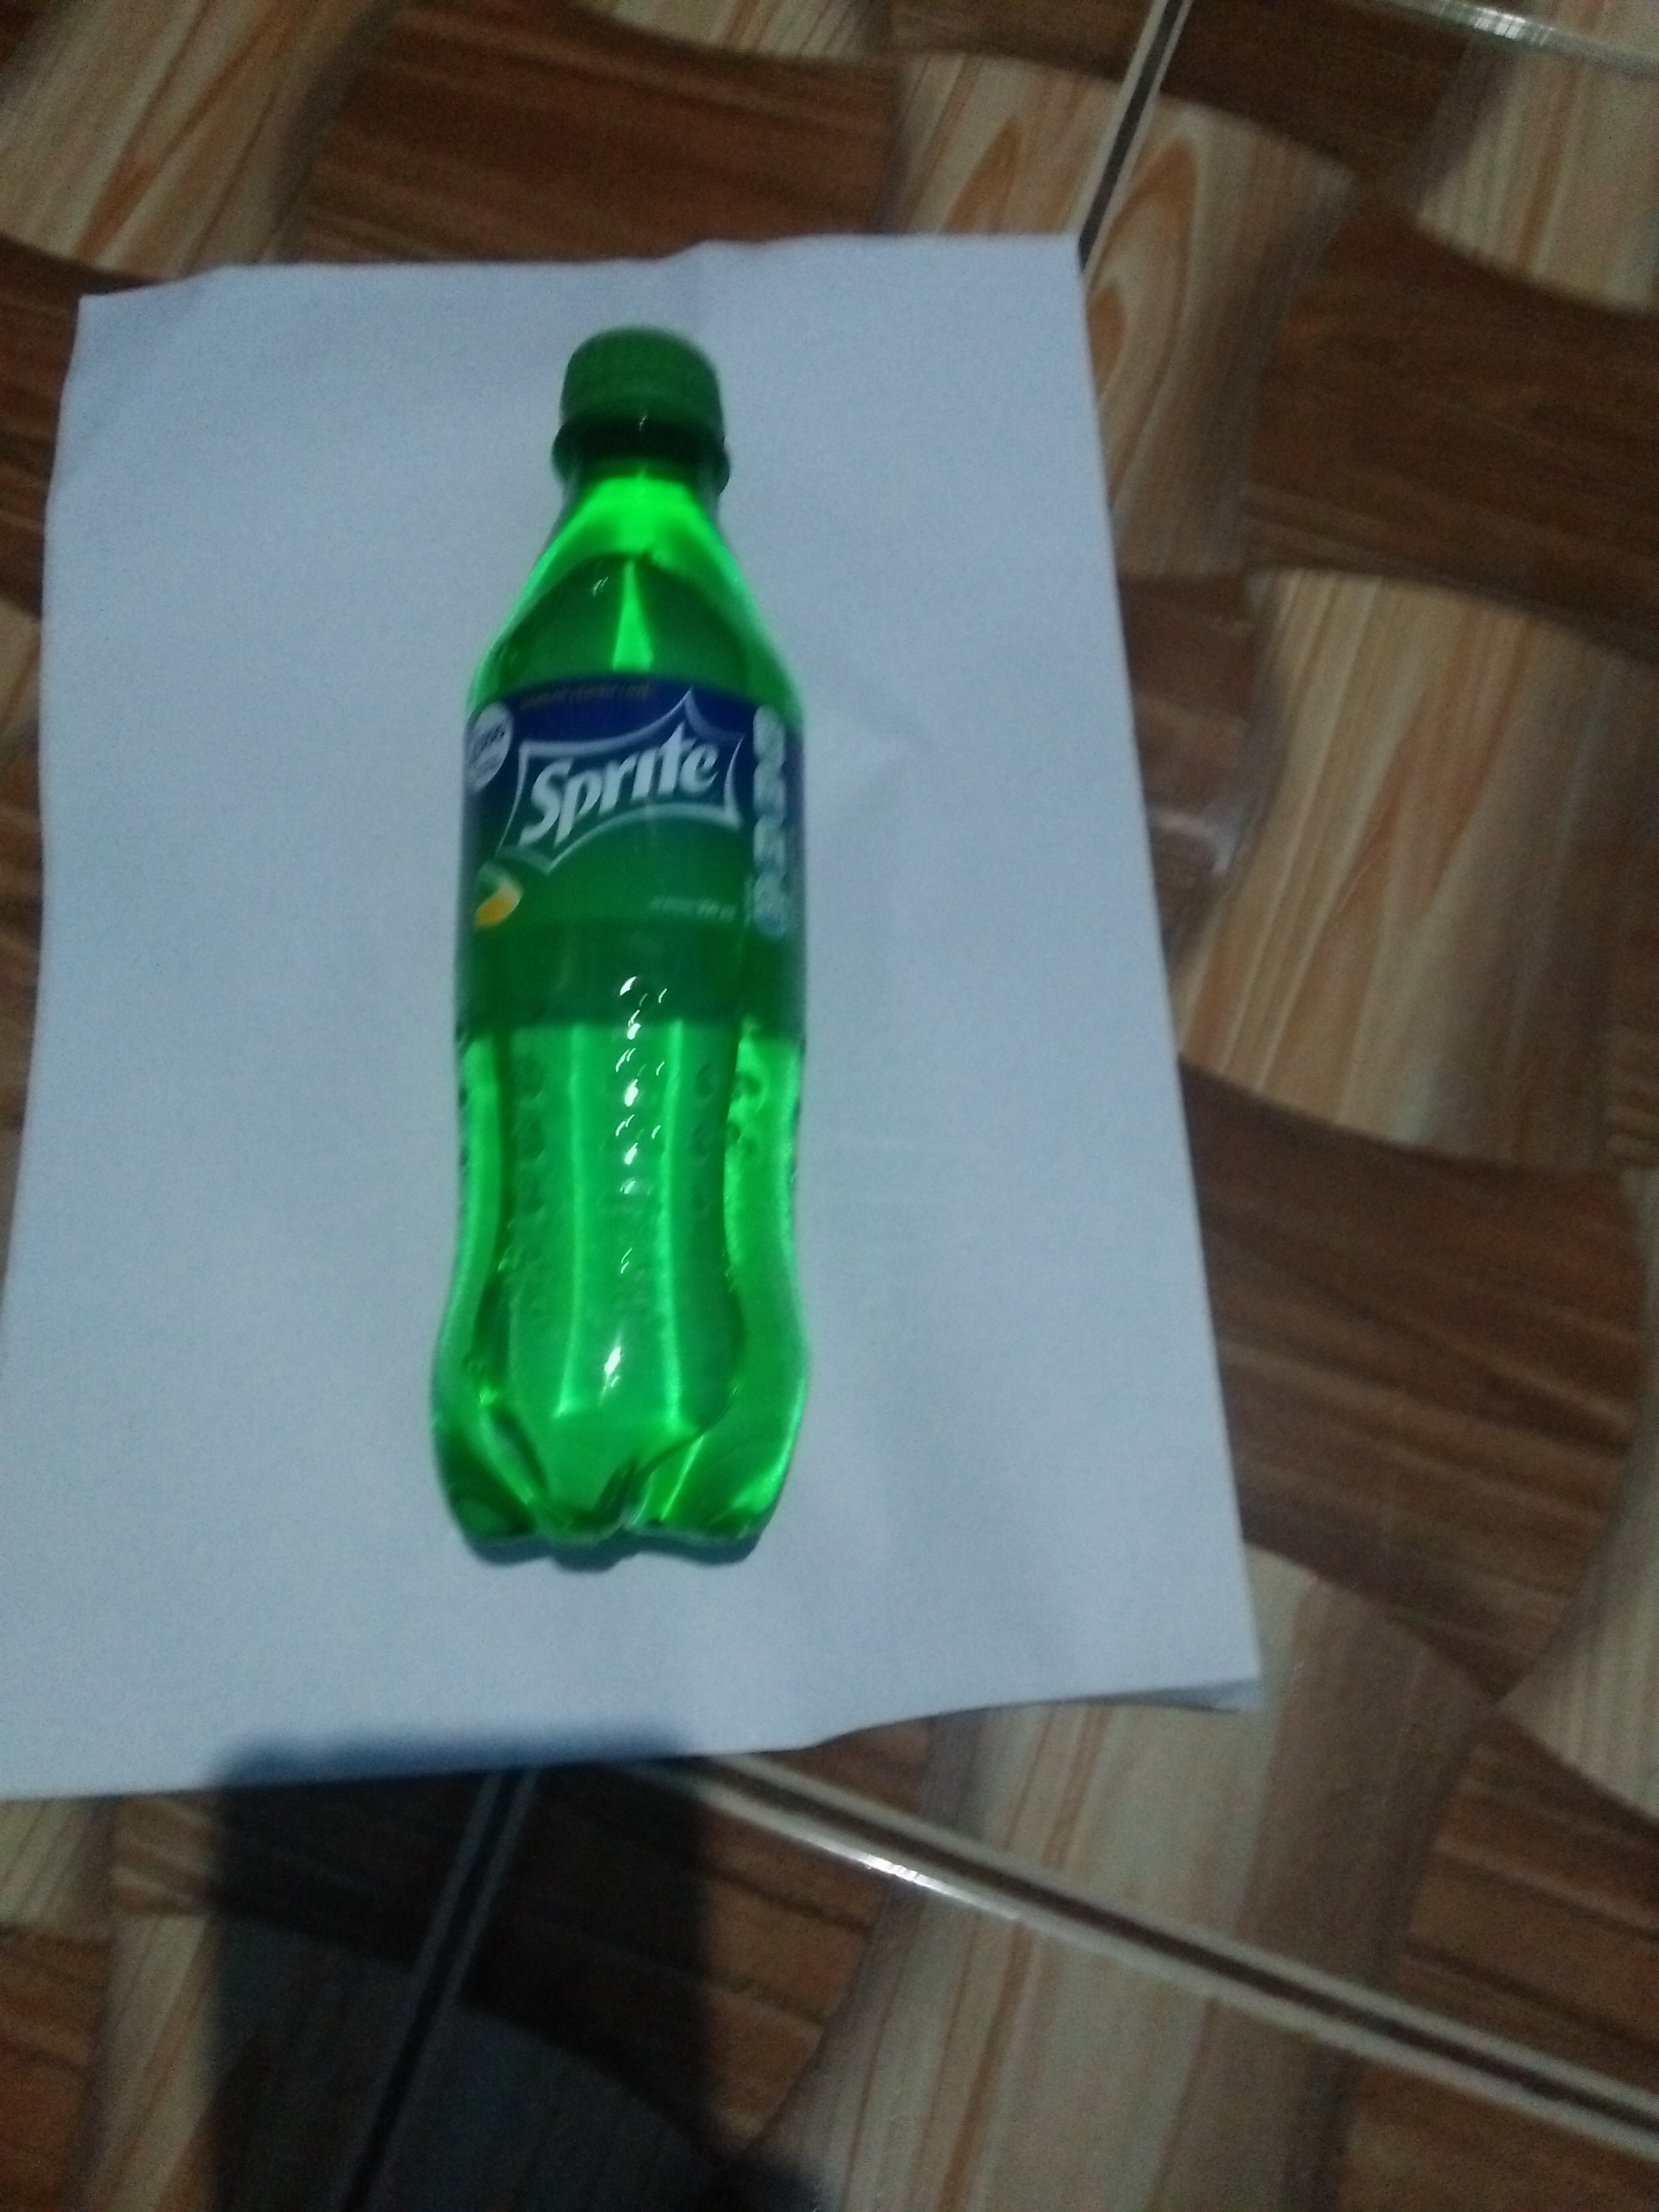Sprite: (411, 315, 854, 1599)
